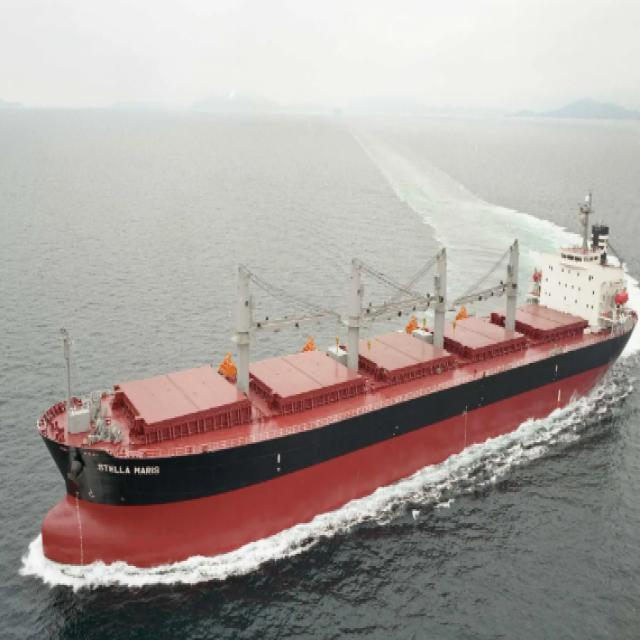cargoship: (34, 154, 629, 579)
